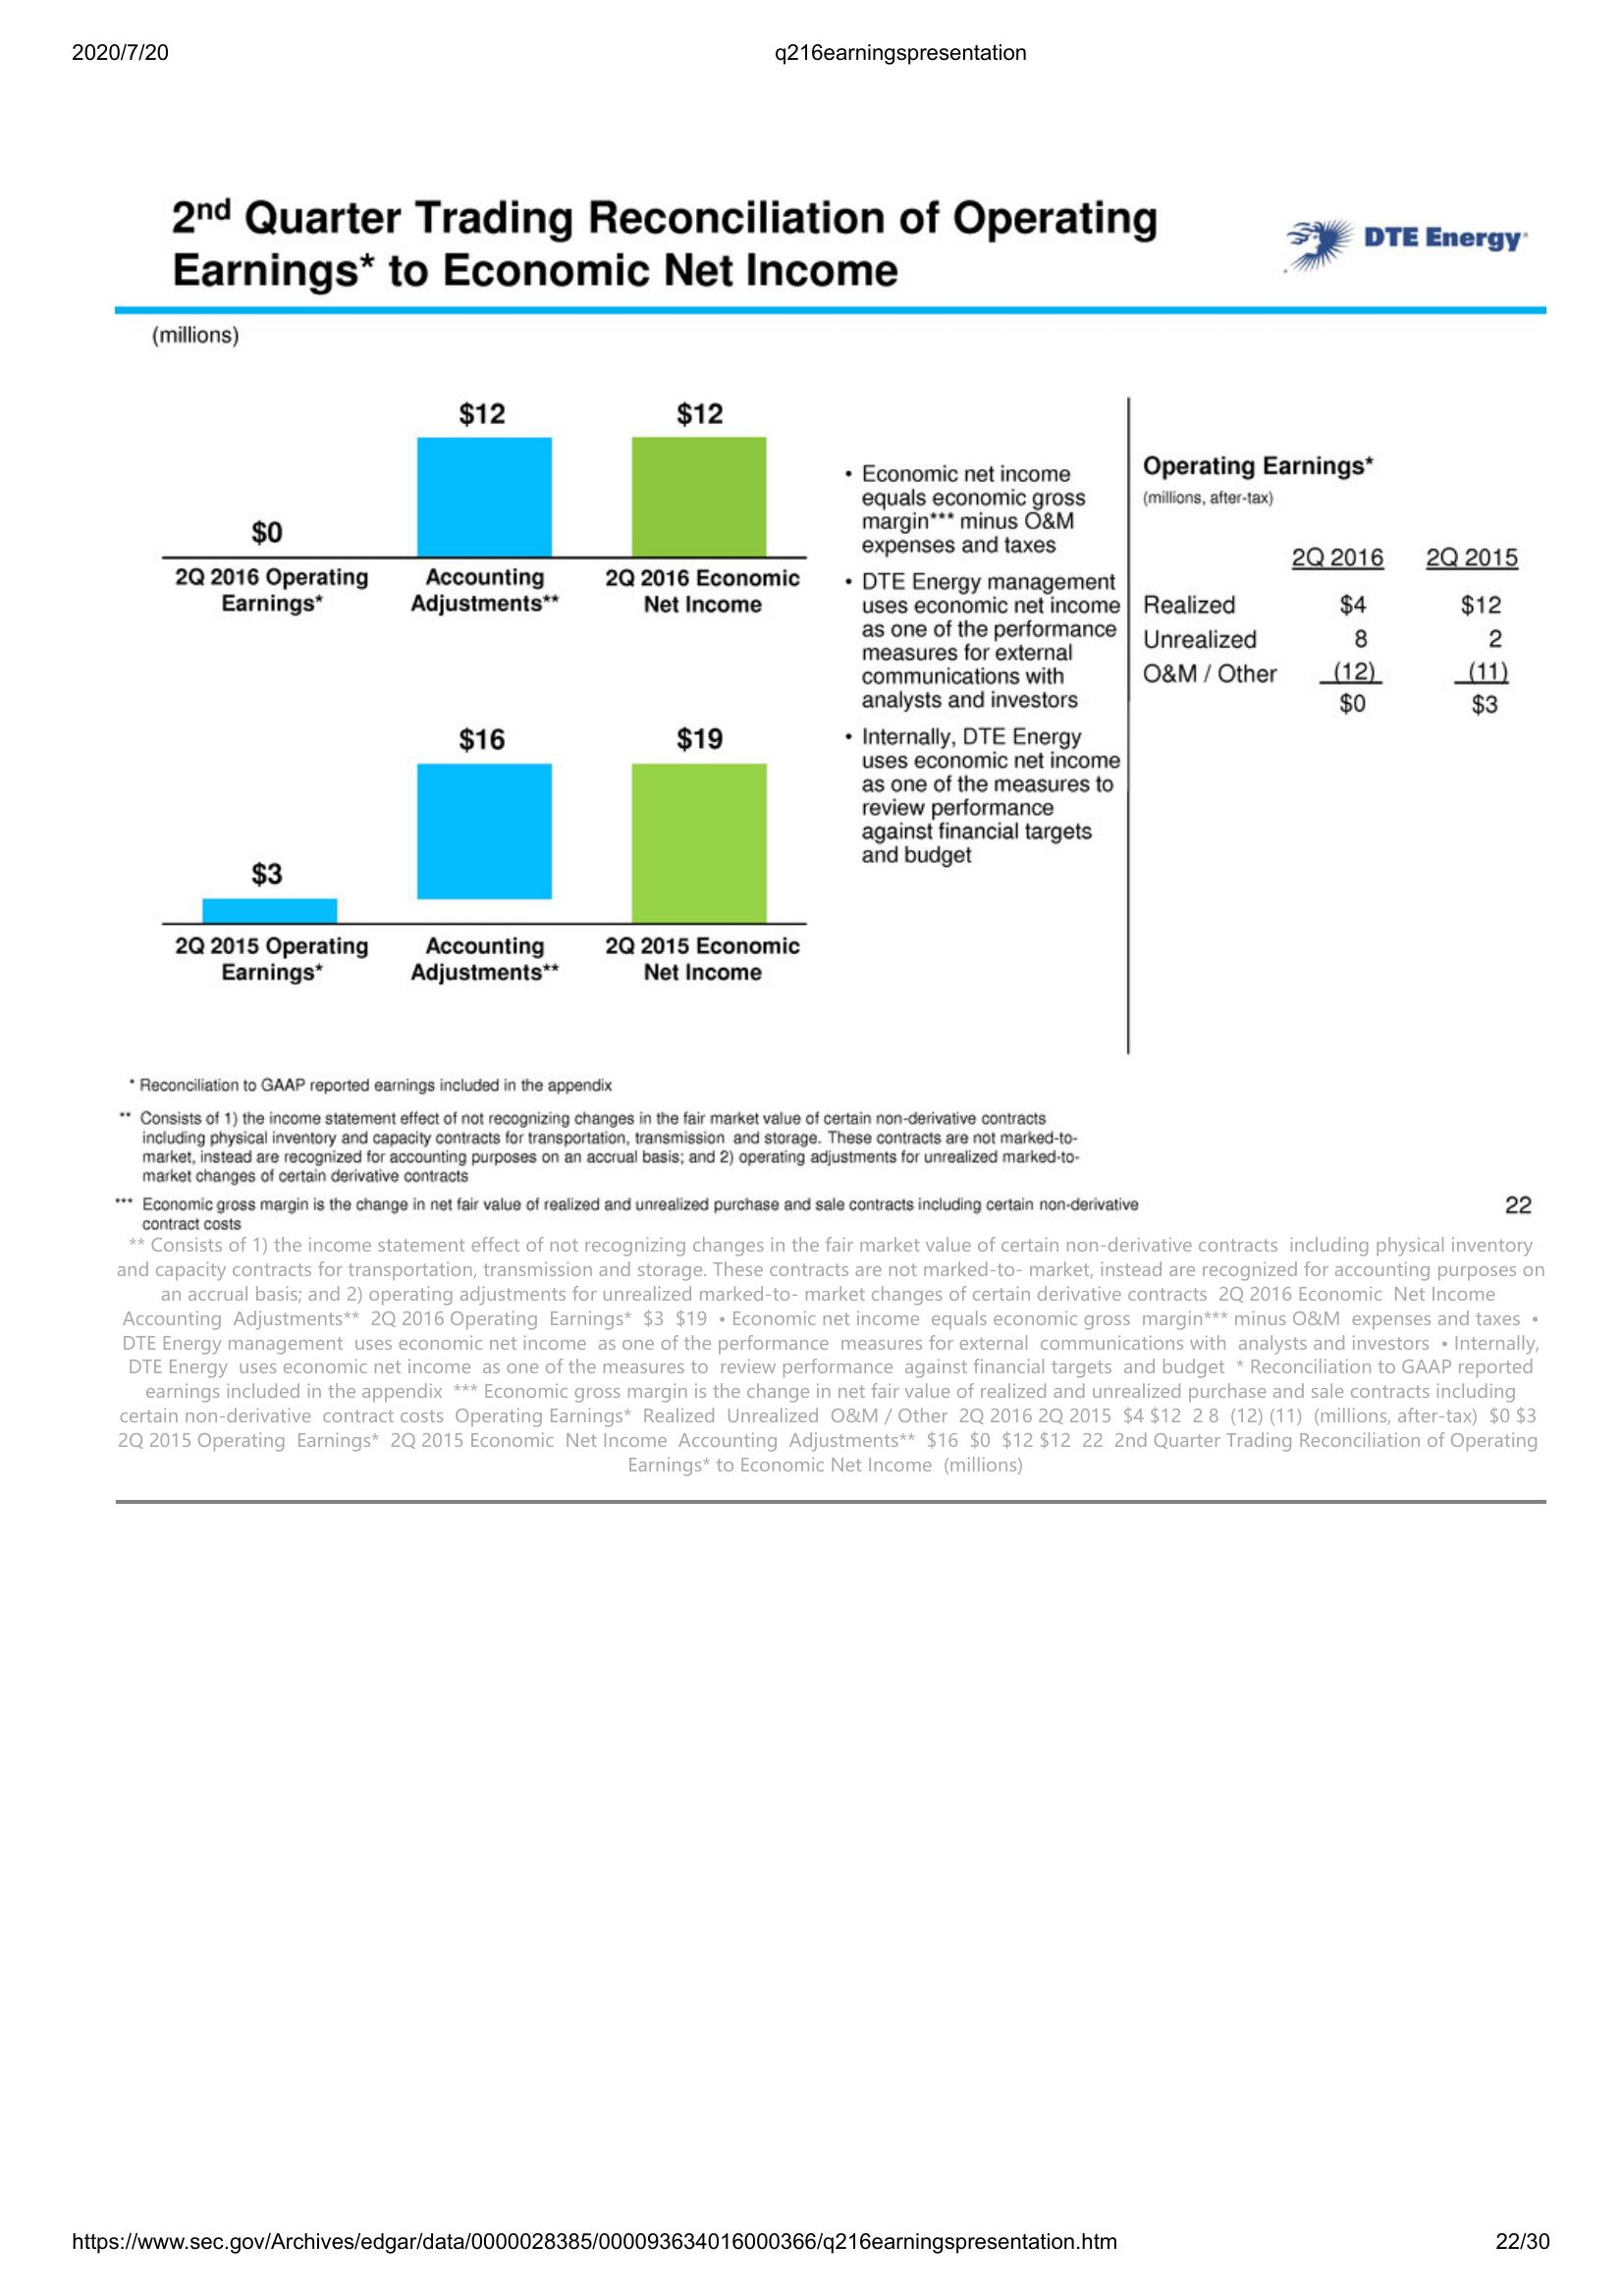table: (1140, 528, 1553, 725)
